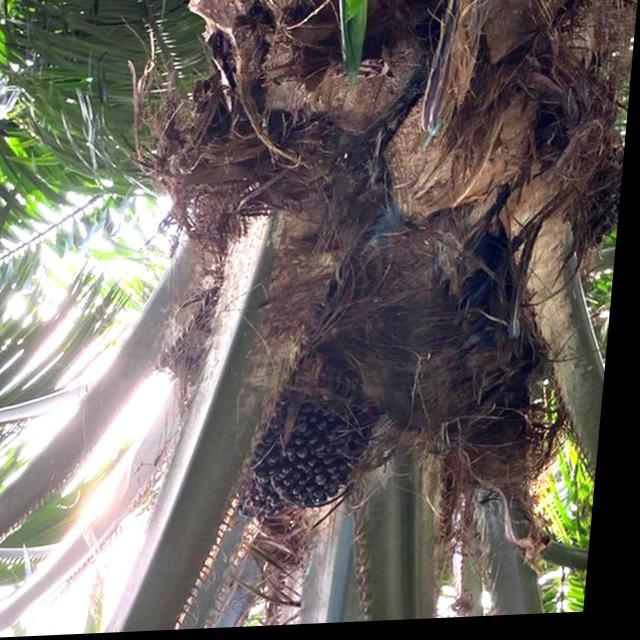unripe: (242, 370, 392, 541)
